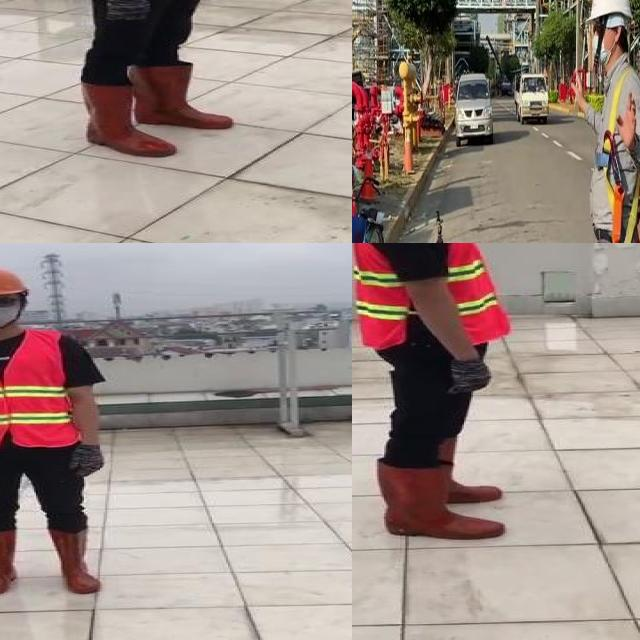Harness: (604, 68, 640, 243)
boots: (373, 458, 505, 541), (74, 77, 179, 158), (389, 433, 503, 504), (131, 58, 211, 131), (45, 527, 105, 596), (0, 529, 20, 596)
face_mask: (0, 293, 24, 329)
glasses: (0, 295, 24, 311)
hand_glove: (444, 356, 496, 396), (70, 448, 107, 476), (104, 0, 150, 20)
head_helmet: (0, 265, 27, 299)
person: (352, 243, 522, 544), (0, 263, 113, 606), (43, 0, 239, 164)
vest: (352, 243, 510, 349), (0, 329, 78, 446)
